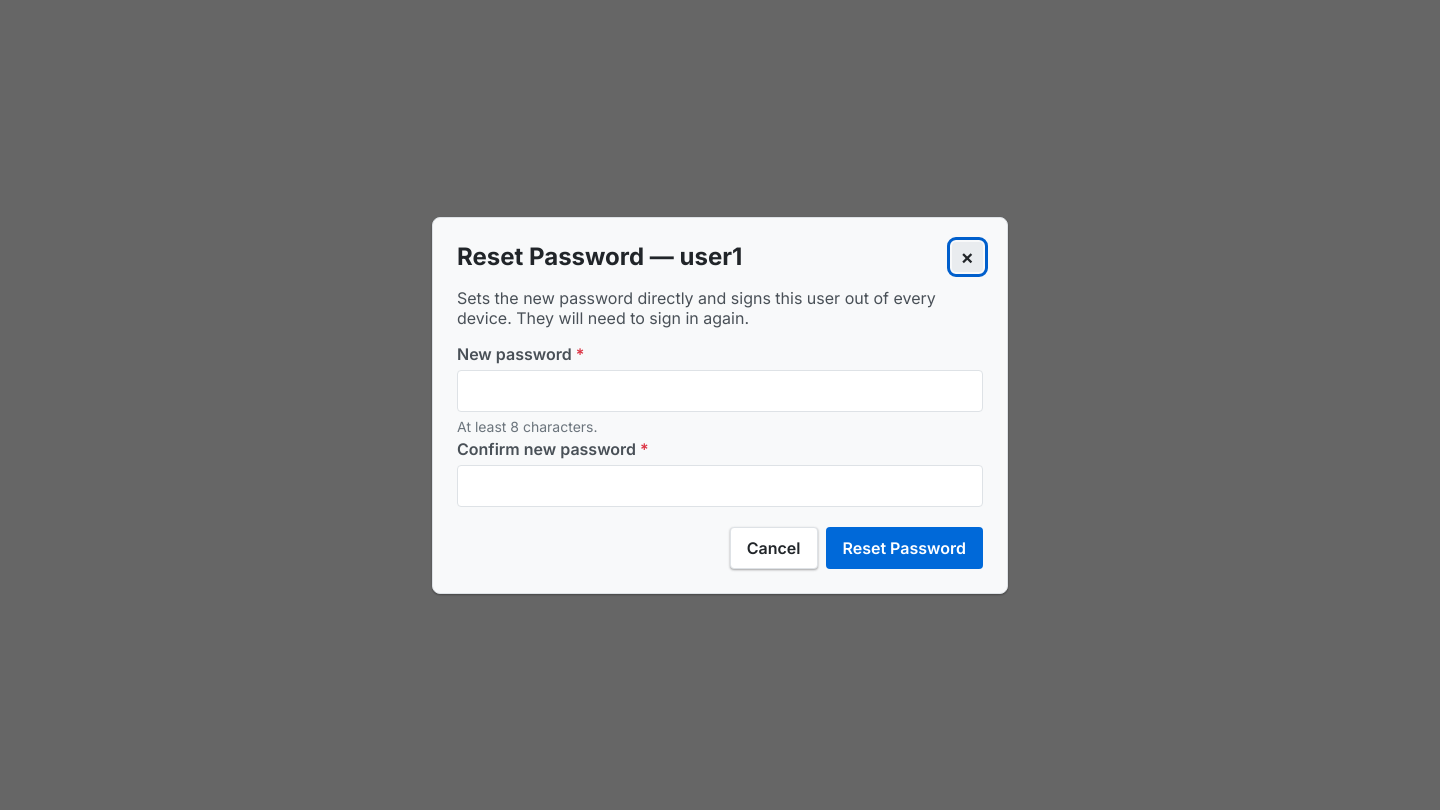
Test: ResetPasswordModal (AUTH-004) › rejects a short password client-side
Type "short" into the password field labelled "New password" at (720, 390), box [457,370,983,412]
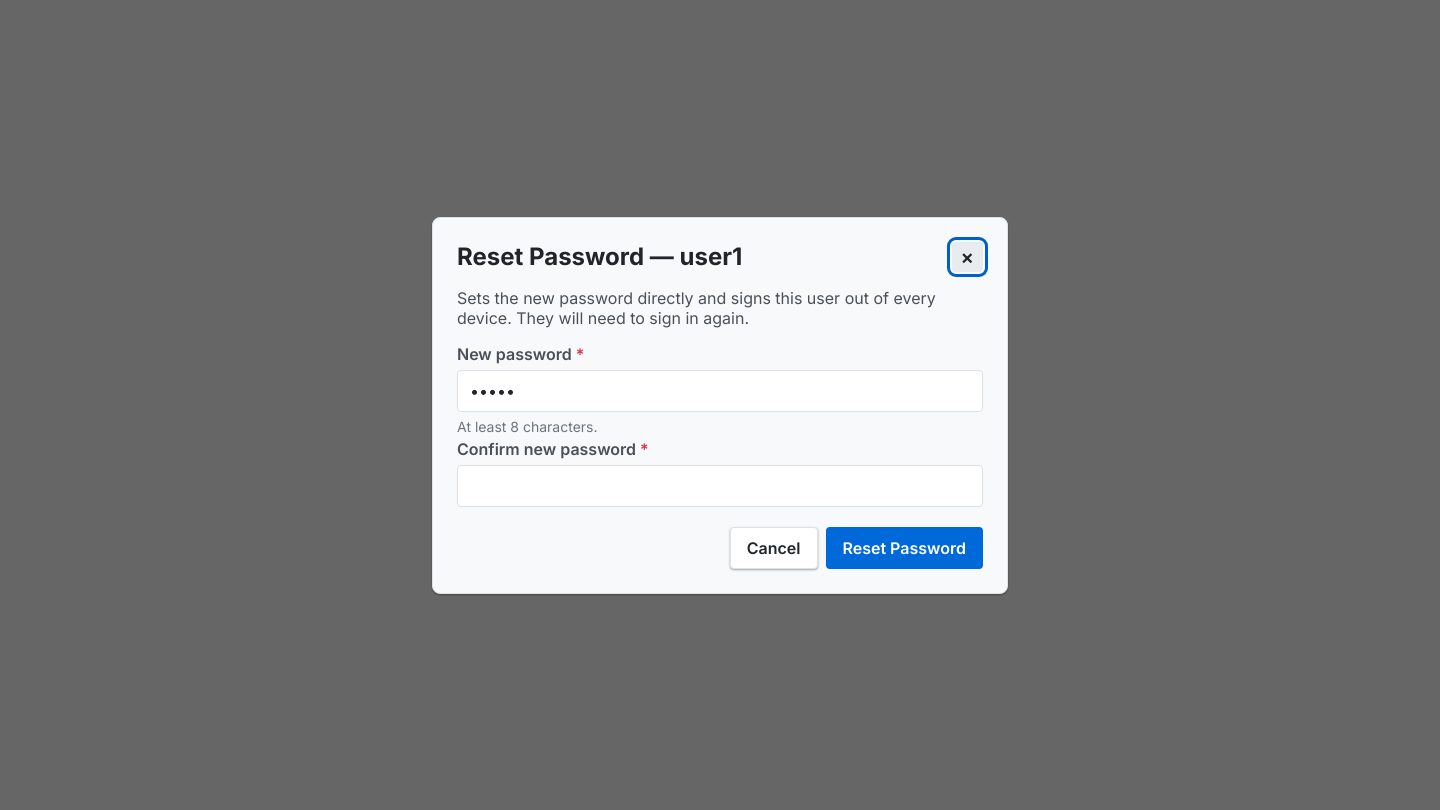
Type "short" into the password field labelled "Confirm new password" at (720, 486), box [457,464,983,506]
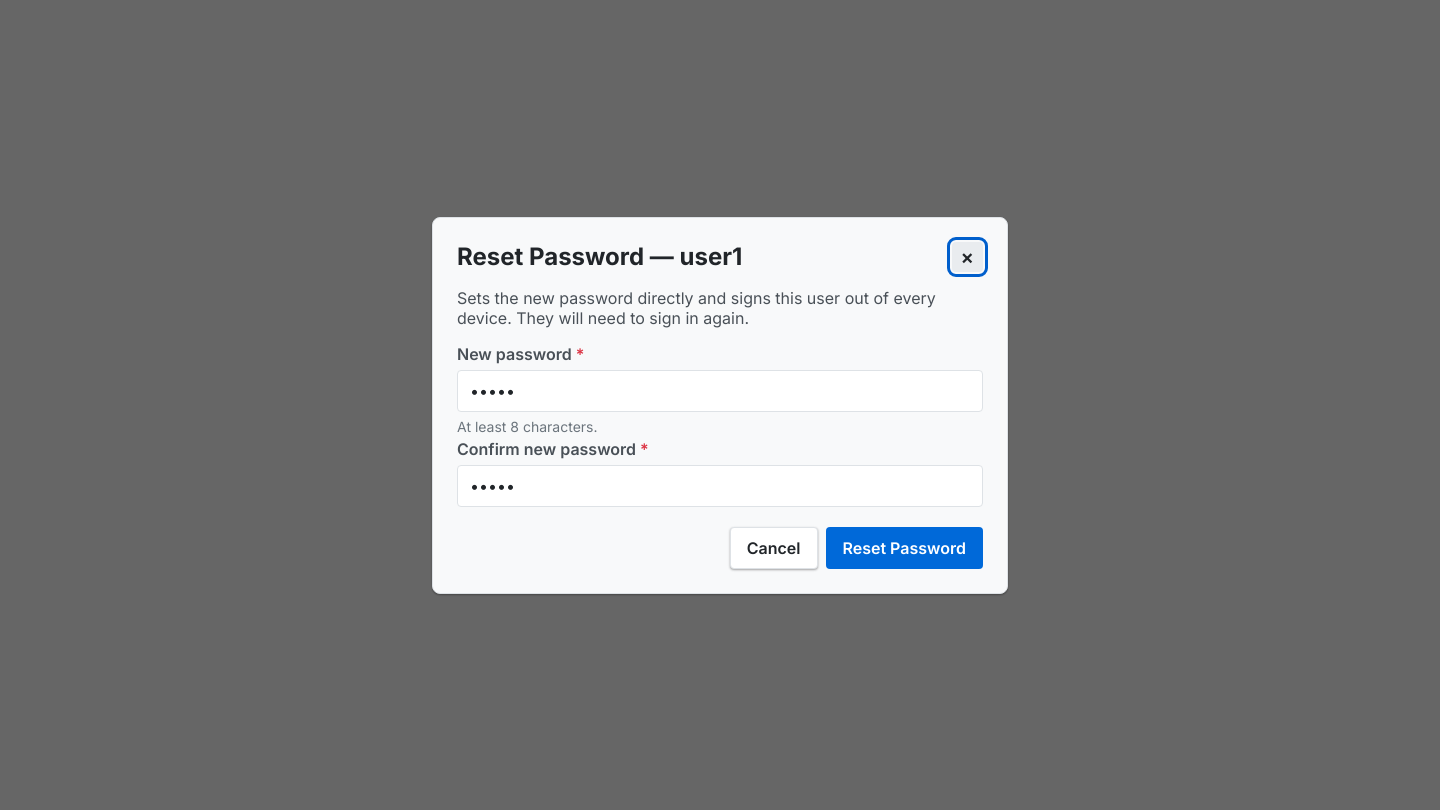
Click the button "Reset Password" at (904, 548), box [826,526,983,568]
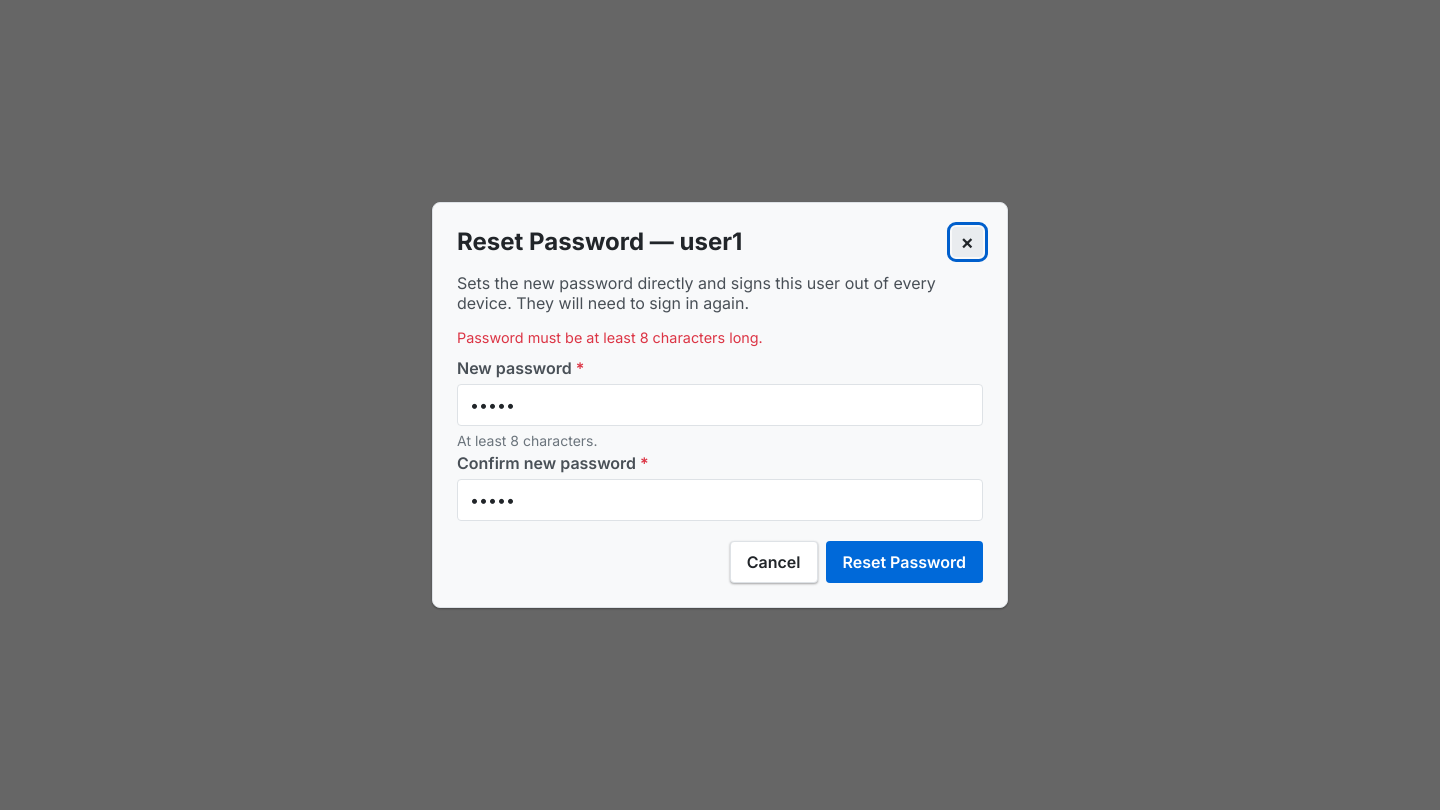
Now the text "Password must be at least 8 characters long." is shown, box [457,329,763,346]
